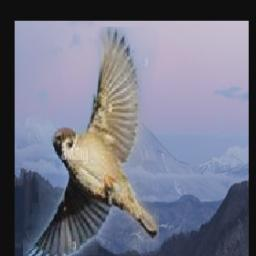Sparrow: (24, 28, 160, 256)
